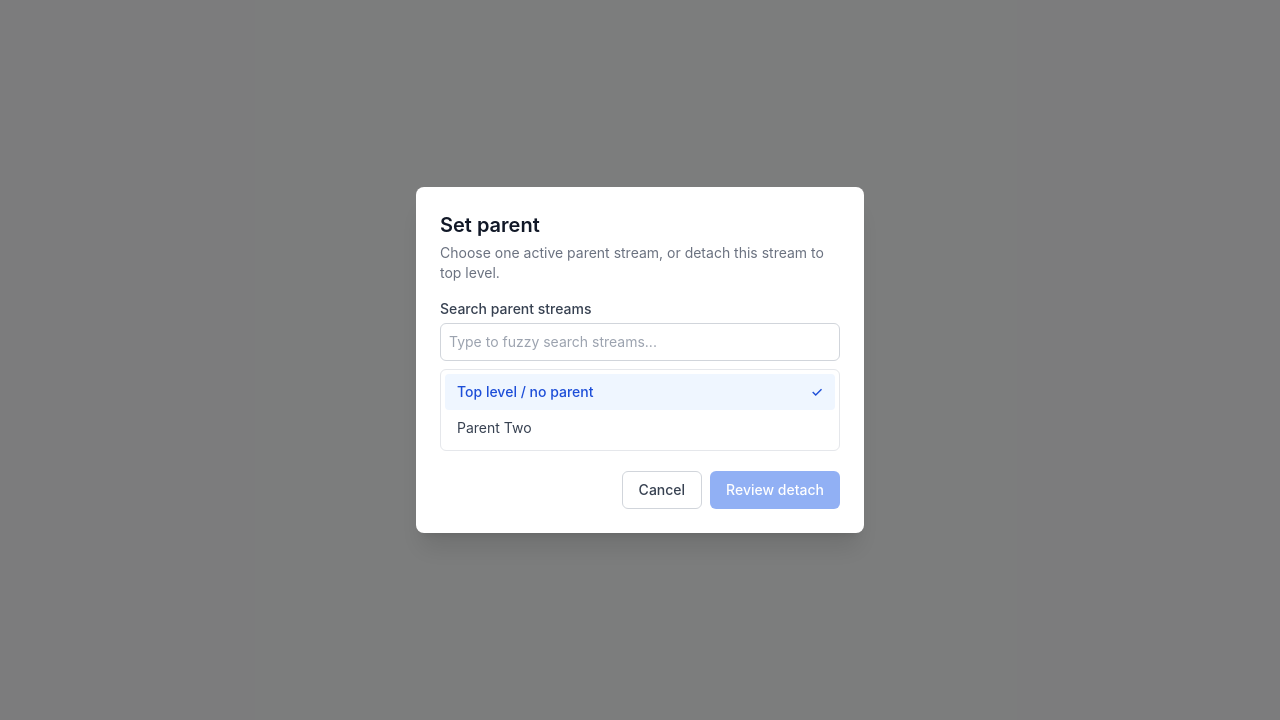
optimistic concurrency edit dialogs › sends the parent dialog original version and preserves selection on conflict
Click the button "Parent Two": (494, 428) x1=445 y1=410 x2=835 y2=446
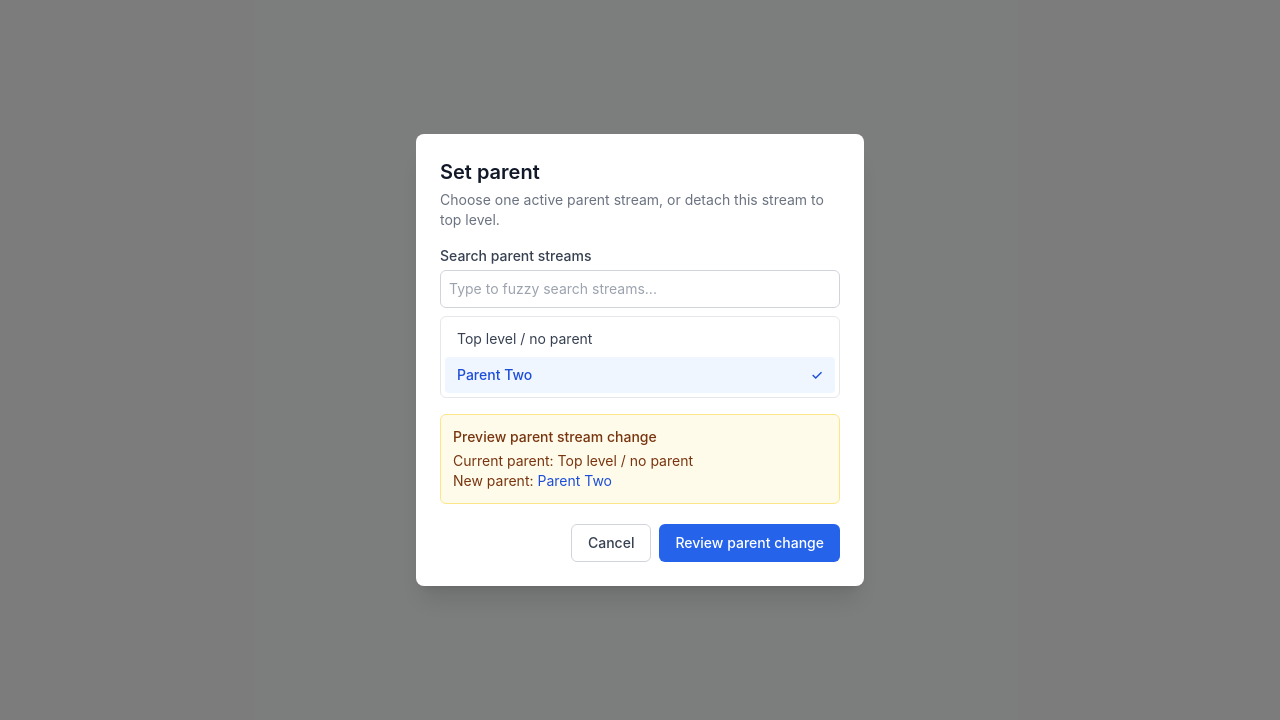
Click the button "Review parent change": (750, 543) x1=660 y1=524 x2=840 y2=562
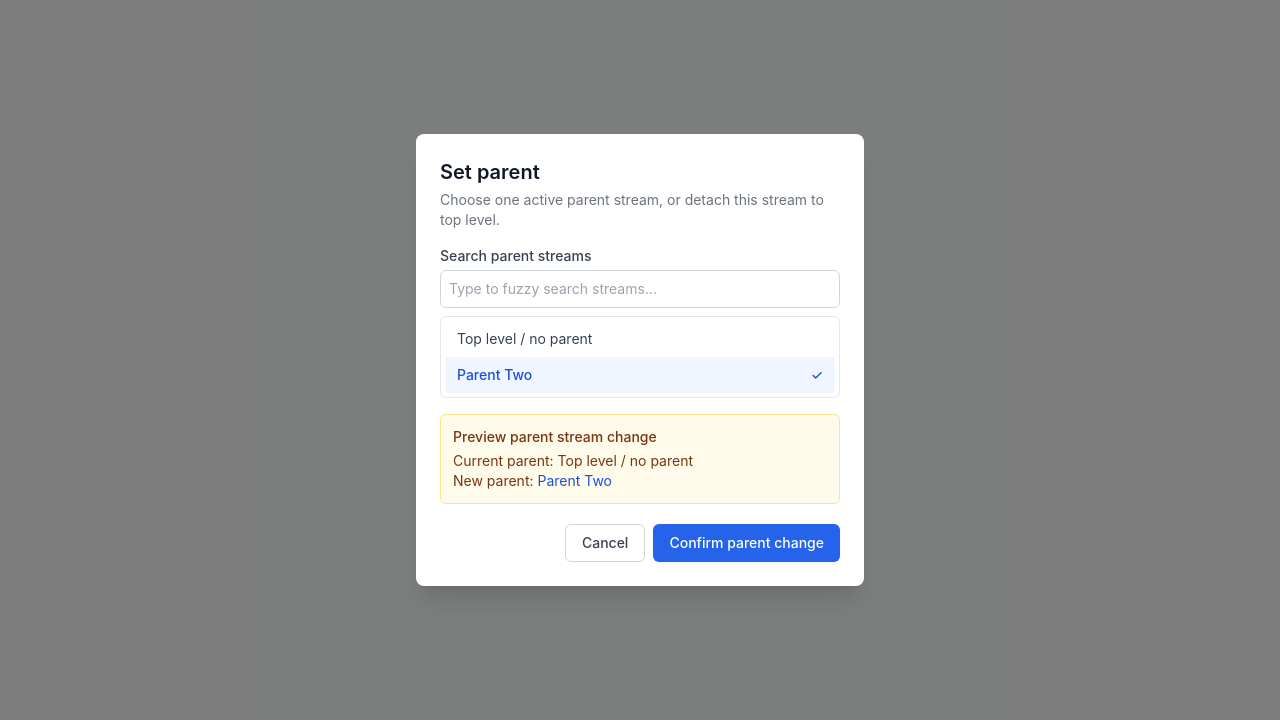
Click the button "Confirm parent change": (747, 543) x1=653 y1=524 x2=840 y2=562
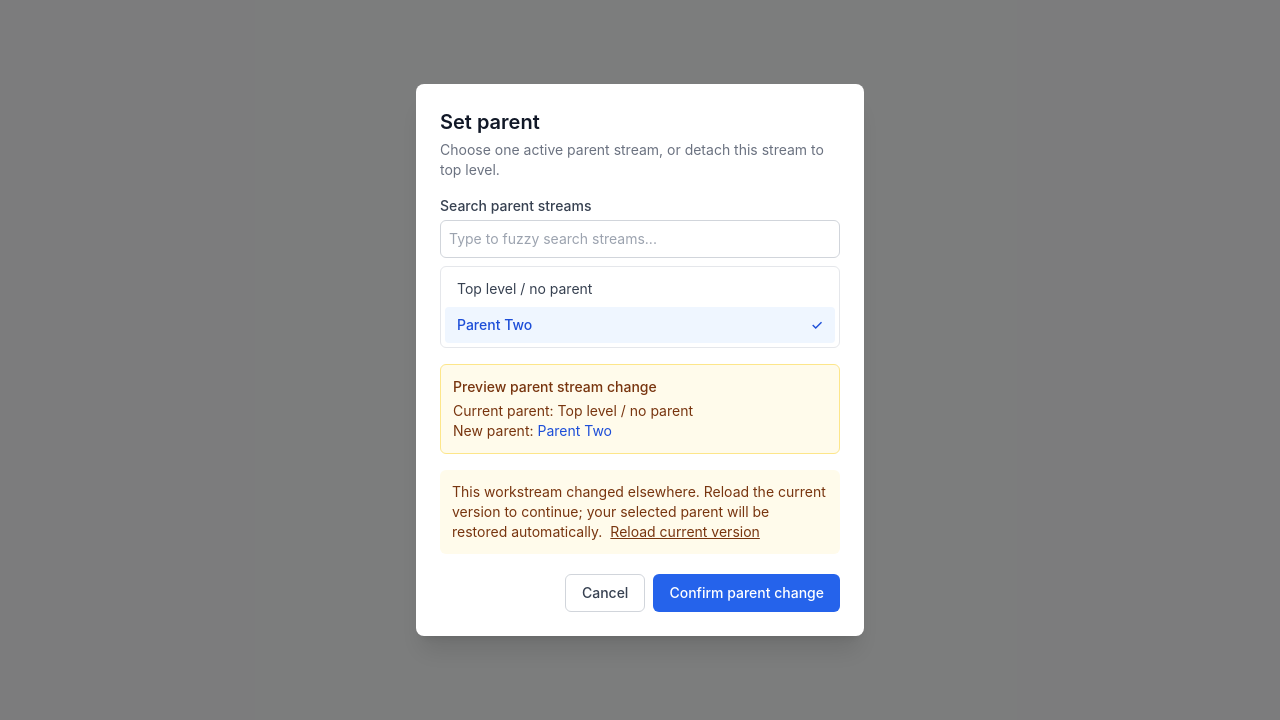
Result: the button "Parent Two ✓" is shown at x1=445 y1=307 x2=835 y2=343
Result: the text "changed elsewhere" is shown at x1=452 y1=483 x2=826 y2=540
